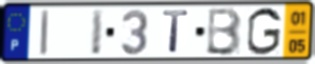3: (119, 7, 150, 57)
B: (204, 6, 244, 58)
G: (245, 6, 283, 57)
I: (90, 8, 106, 57), (39, 8, 51, 58)
T: (161, 9, 191, 55)
